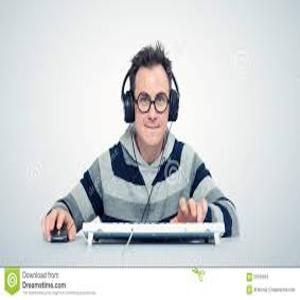Headphones: (120, 60, 181, 124)
